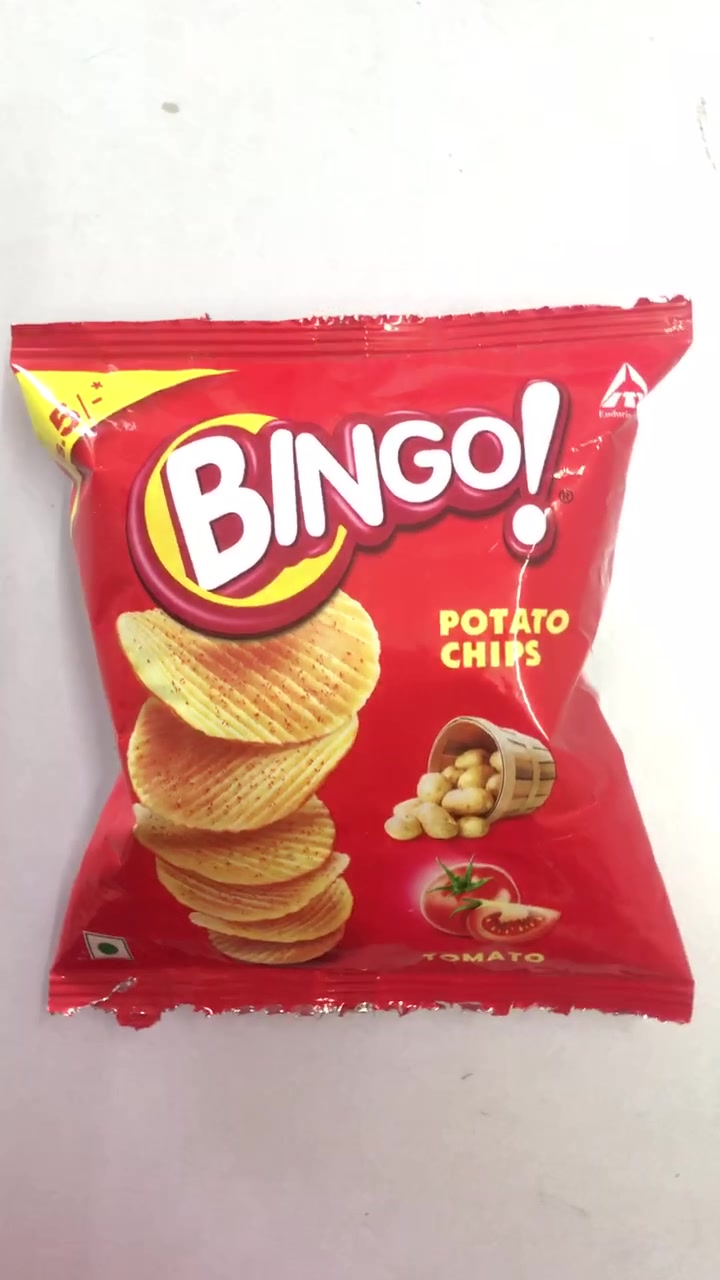Bingo: (14, 314, 720, 1030)
